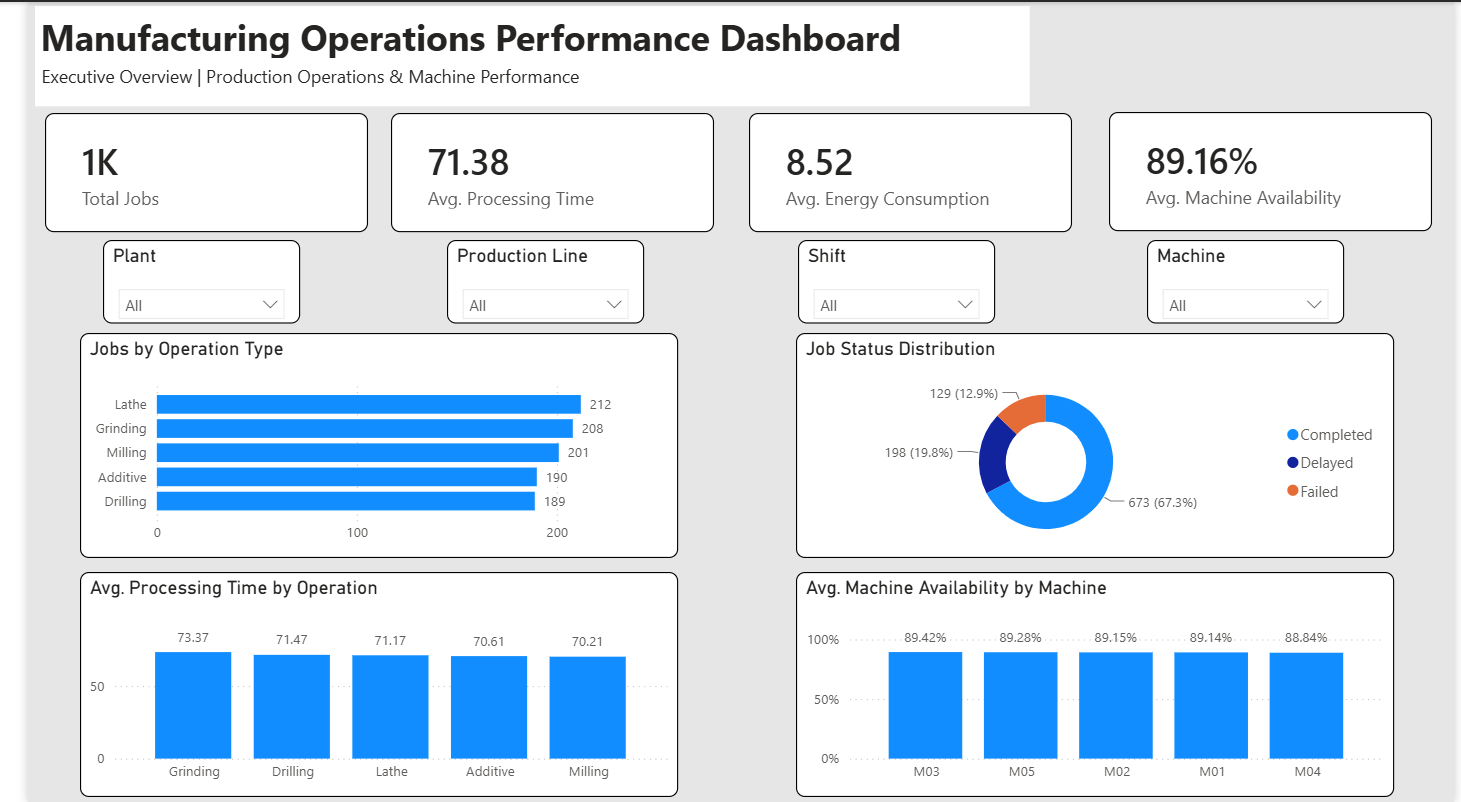

This screenshot's page, from the dashboard's own definition file:
{"tool":"powerbi","page":{"name":"Manufacturing Operations Overview","canvas":[1280,720],"ordinal":0},"visuals":[{"type":"group","id":"g1","title":"Group 4","box":[6.1,3.4,893.3,89.8],"z":0},{"type":"textbox","box":[6.1,3.4,893.3,89.8],"z":0,"group":"g1"},{"type":"cardVisual","title":"Total Production Jobs","fields":{"Data":["Manufacturing_Data.Total Jobs"]},"box":[15.3,99.2,290,107],"z":0,"group":"g2"},{"type":"slicer","title":"Plant","fields":{"Values":["Manufacturing_Data.Plant"]},"box":[67.3,213.6,176.8,75],"z":0,"group":"g4"},{"type":"clusteredBarChart","title":"Jobs by Operation Type","fields":{"Category":["Manufacturing_Data.Operation_Type"],"Y":["CountNonNull(Manufacturing_Data.Job_ID)"]},"box":[46.7,297.1,536.8,201.6],"z":0,"group":"g3"},{"type":"textbox","box":[7,50.1,741.8,33],"z":1000,"group":"g1"},{"type":"group","id":"g2","title":"Group 1","box":[15.3,98.7,1245.1,108],"z":1000},{"type":"donutChart","title":"Job Status Distribution","fields":{"Category":["Manufacturing_Data.Job_Status"],"Y":["CountNonNull(Manufacturing_Data.Job_ID)"]},"box":[689.6,297.1,536.8,201.6],"z":1000,"group":"g3"},{"type":"cardVisual","title":"Avg. Processing Time","fields":{"Data":["Manufacturing_Data.Average Processing Time"]},"box":[325.9,99.2,290,107.5],"z":2000,"group":"g2"},{"type":"slicer","title":"Production Line","fields":{"Values":["Manufacturing_Data.Production_Line"]},"box":[376.5,213.6,176.8,75],"z":2000,"group":"g4"},{"type":"group","id":"g3","title":"Group 2","box":[46.7,297.1,1179.7,416],"z":2000},{"type":"clusteredColumnChart","title":"Avg. Machine Availability by Machine","fields":{"Category":["Manufacturing_Data.Machine_ID"],"Y":["Manufacturing_Data.Average Machine Availability %"]},"box":[689.6,511.5,536.8,201.6],"z":2000,"group":"g3"},{"type":"group","id":"g4","title":"Group 3","box":[67.3,213.6,1114.5,75],"z":3000},{"type":"clusteredColumnChart","title":"Avg. Processing Time by Operation","fields":{"Category":["Manufacturing_Data.Operation_Type"],"Y":["Avg(Manufacturing_Data.Processing_Time)"]},"box":[46.7,511.5,536.8,201.6],"z":3000,"group":"g3"},{"type":"slicer","title":"Shift","fields":{"Values":["Manufacturing_Data.Shift"]},"box":[691.2,213.6,176.8,75],"z":4000,"group":"g4"},{"type":"cardVisual","title":"Avg. Energy Consumption","fields":{"Data":["Manufacturing_Data.Average Energy Consumption"]},"box":[647.7,99.2,290,107.5],"z":5000,"group":"g2"},{"type":"slicer","title":"Machine","fields":{"Values":["Manufacturing_Data.Machine_ID"]},"box":[1004.9,213.6,176.8,75],"z":5000,"group":"g4"},{"type":"cardVisual","title":"Avg. Machine Availability","fields":{"Data":["Manufacturing_Data.Average Machine Availability %"]},"box":[970.4,98.7,290,107.5],"z":7000,"group":"g2"}]}

Visuals, with their boxes in screenshot pixels (x1, y1, x2, y2), scaled from the page's 1280x720 canvas onto the 1461x802 screenshot:
"Group 4" group: 7,4,1027,104
textbox: 7,4,1027,104
"Total Production Jobs" cardVisual: 17,110,348,230
"Plant" slicer: 77,238,279,321
"Jobs by Operation Type" clusteredBarChart: 53,331,666,555
textbox: 8,56,855,93
"Group 1" group: 17,110,1439,230
"Job Status Distribution" donutChart: 787,331,1400,555
"Avg. Processing Time" cardVisual: 372,110,703,230
"Production Line" slicer: 430,238,632,321
"Group 2" group: 53,331,1400,794
"Avg. Machine Availability by Machine" clusteredColumnChart: 787,570,1400,794
"Group 3" group: 77,238,1349,321
"Avg. Processing Time by Operation" clusteredColumnChart: 53,570,666,794
"Shift" slicer: 789,238,991,321
"Avg. Energy Consumption" cardVisual: 739,110,1070,230
"Machine" slicer: 1147,238,1349,321
"Avg. Machine Availability" cardVisual: 1108,110,1439,230
